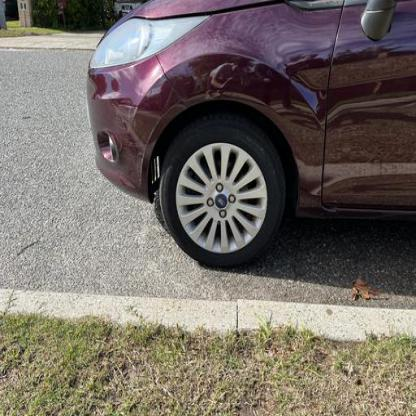Tire: (158, 110, 286, 271)
